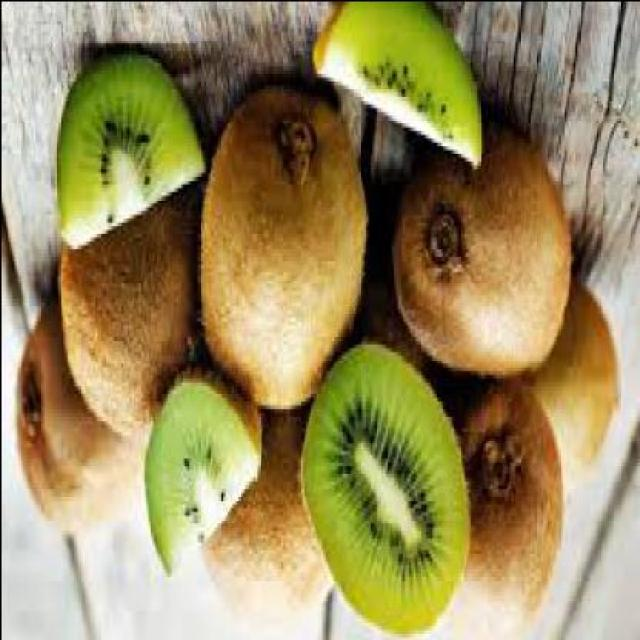BIODEGRADABLE: (200, 88, 368, 408), (301, 345, 469, 632), (394, 124, 571, 377), (432, 379, 562, 640), (60, 201, 196, 433), (202, 407, 331, 640), (19, 304, 150, 532), (58, 56, 205, 248), (315, 2, 482, 166), (145, 370, 260, 573), (531, 280, 618, 463)
